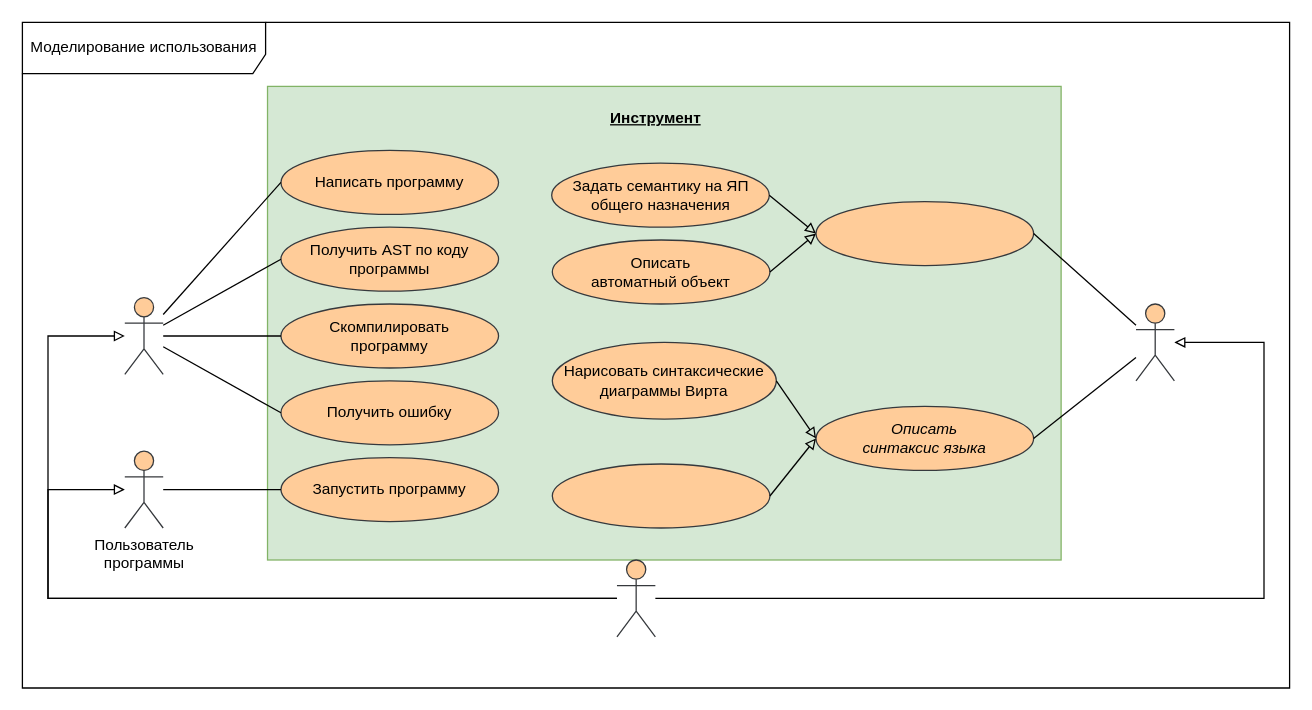
Some shapes in this 1312 by 710 pixel diagram are drawn without their labels. Here are the shapes that lost their labels. From the top down, the centre of each, then its label:
At (924,233): "Описать семантику языка".
At (143,335): "Пользователь DSL".
At (1154,342): "Сильный пользователь (создатель DSL)".
At (660,495): "Описать грамматику языка".
At (635,598): "Пользователь инструмента".
